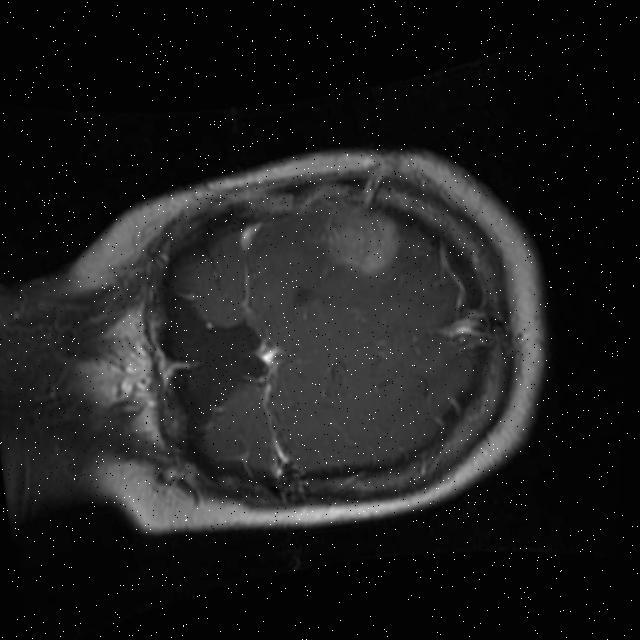Glioma: (313, 195, 409, 285)
